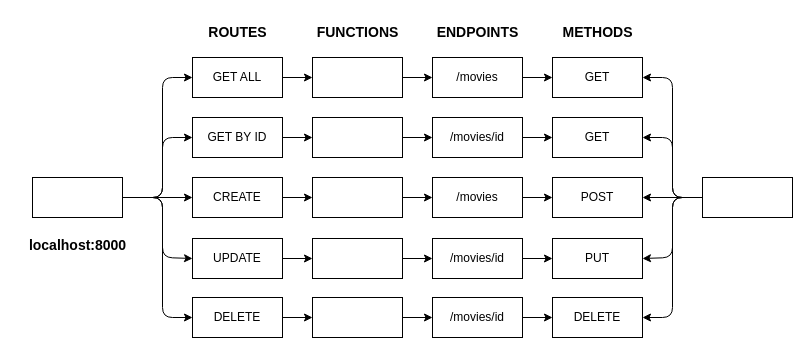
This 810x355 diagram has some shape labels left out. Here are the shapes that lost their labels. From the top down, the box of each, then its label:
(312, 56, 402, 98): getMovies
(312, 116, 402, 158): getMovie
(32, 176, 122, 218): Movie Server
(312, 176, 402, 218): createMovies
(702, 176, 792, 218): Postman
(312, 238, 402, 278): updateMovies
(312, 296, 402, 338): deleteMovies
